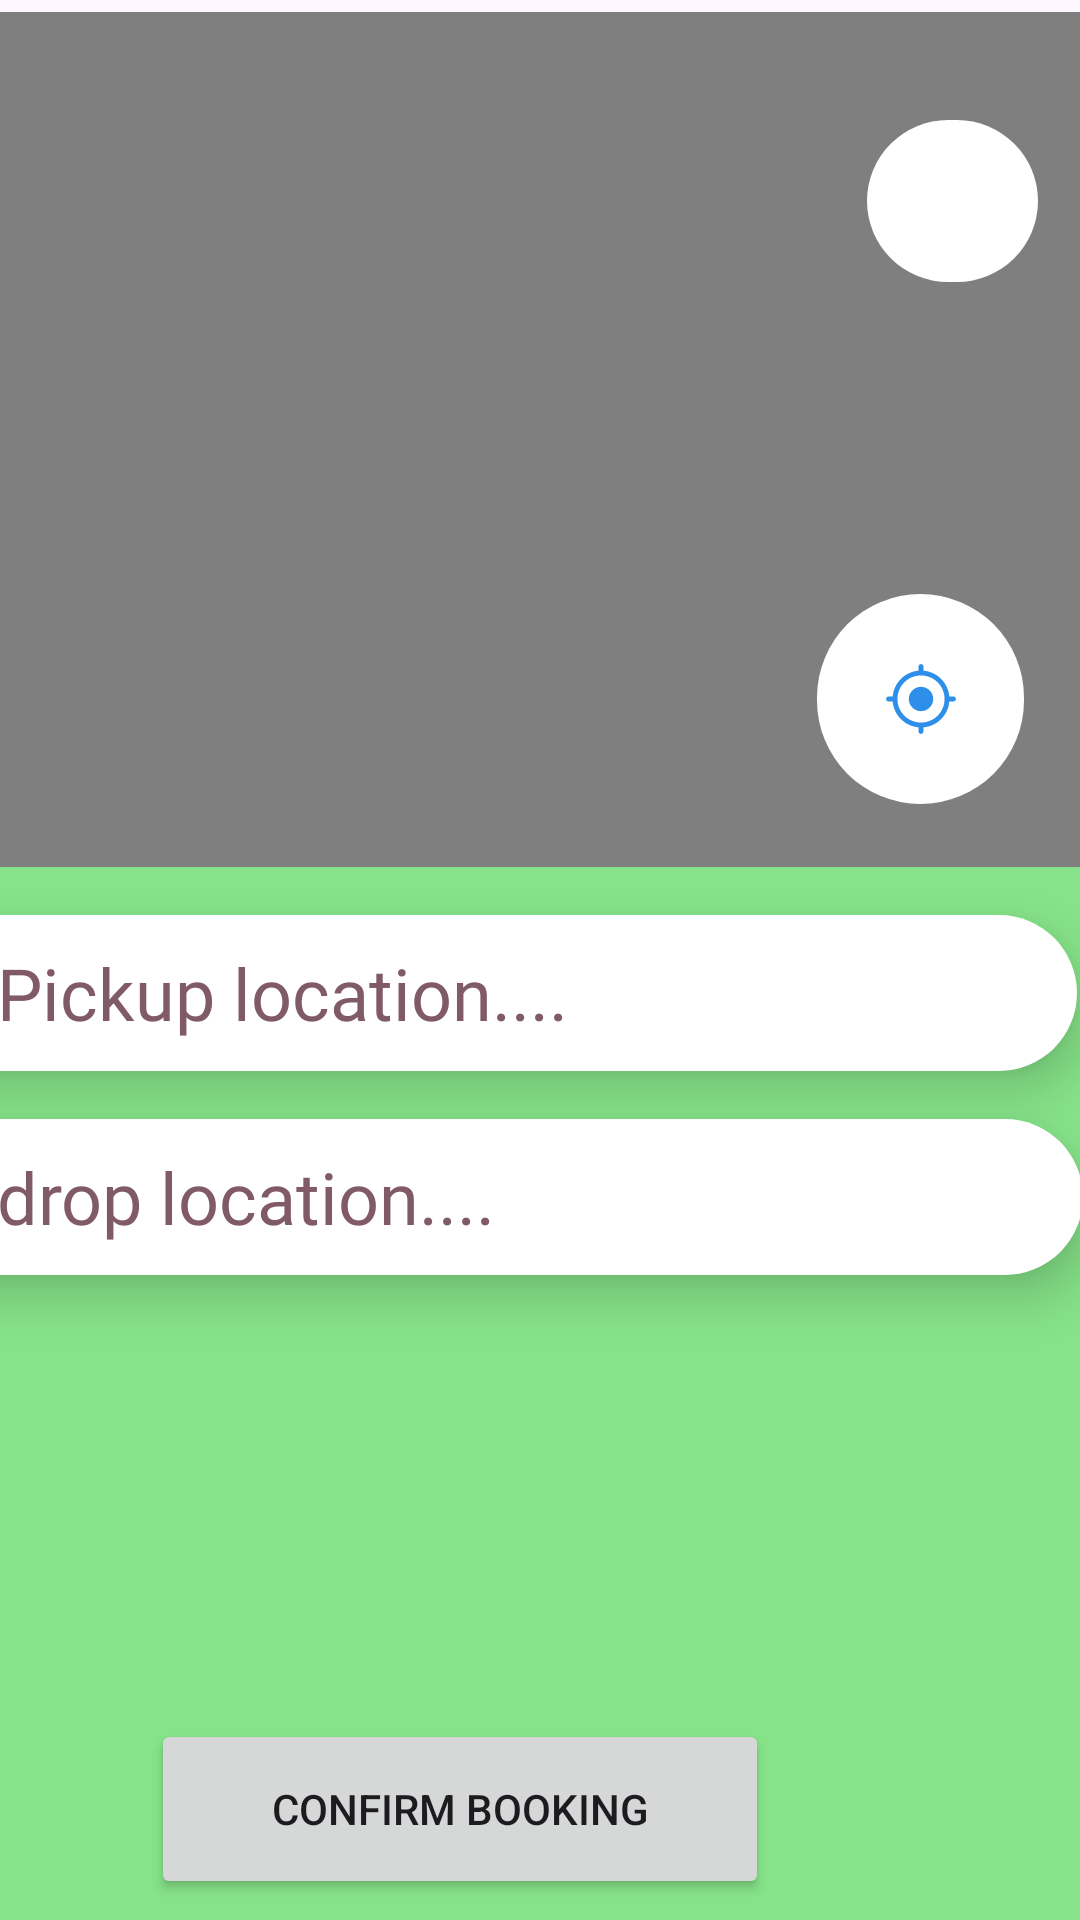

Where to tap for icons on this 1080w x 1920h app screen, as (x,y):
current location: (920,699)
